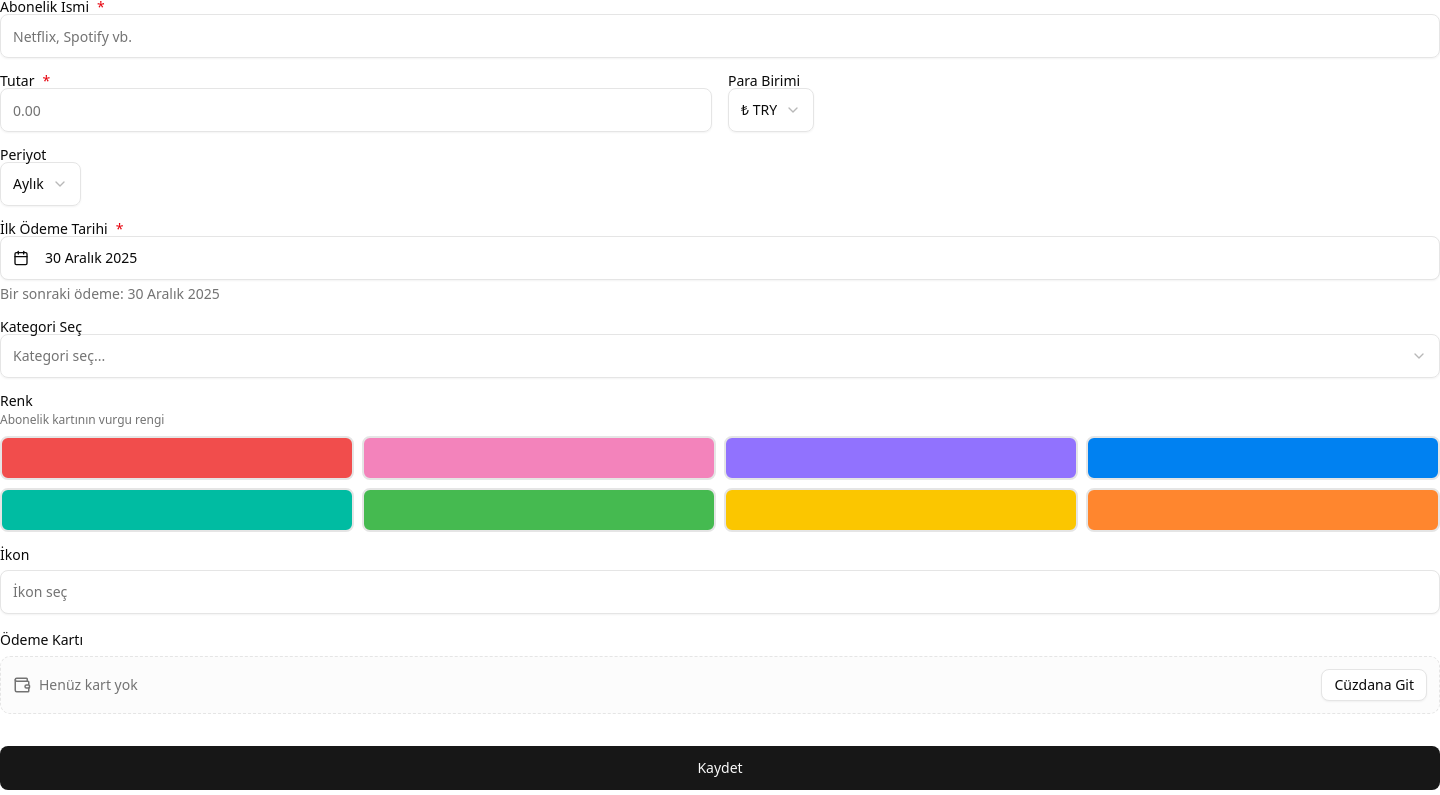
Test: SubscriptionForm › Validation › should show error for negative amount
In the number field labelled "Tutar *": [356, 110] box [0,88,712,132], type "-10"
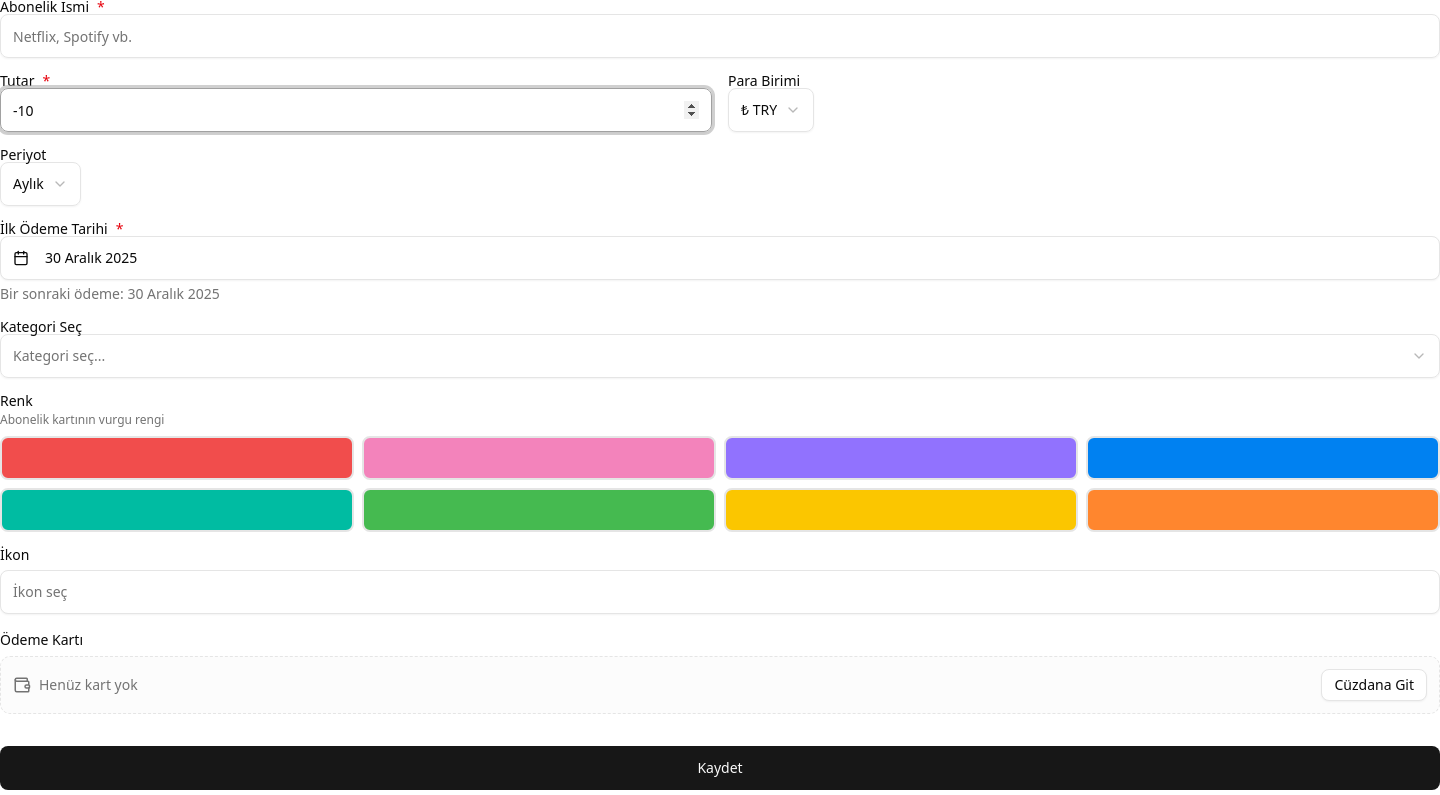
Click the button "Kaydet": [720, 768] box [0,746,1439,790]
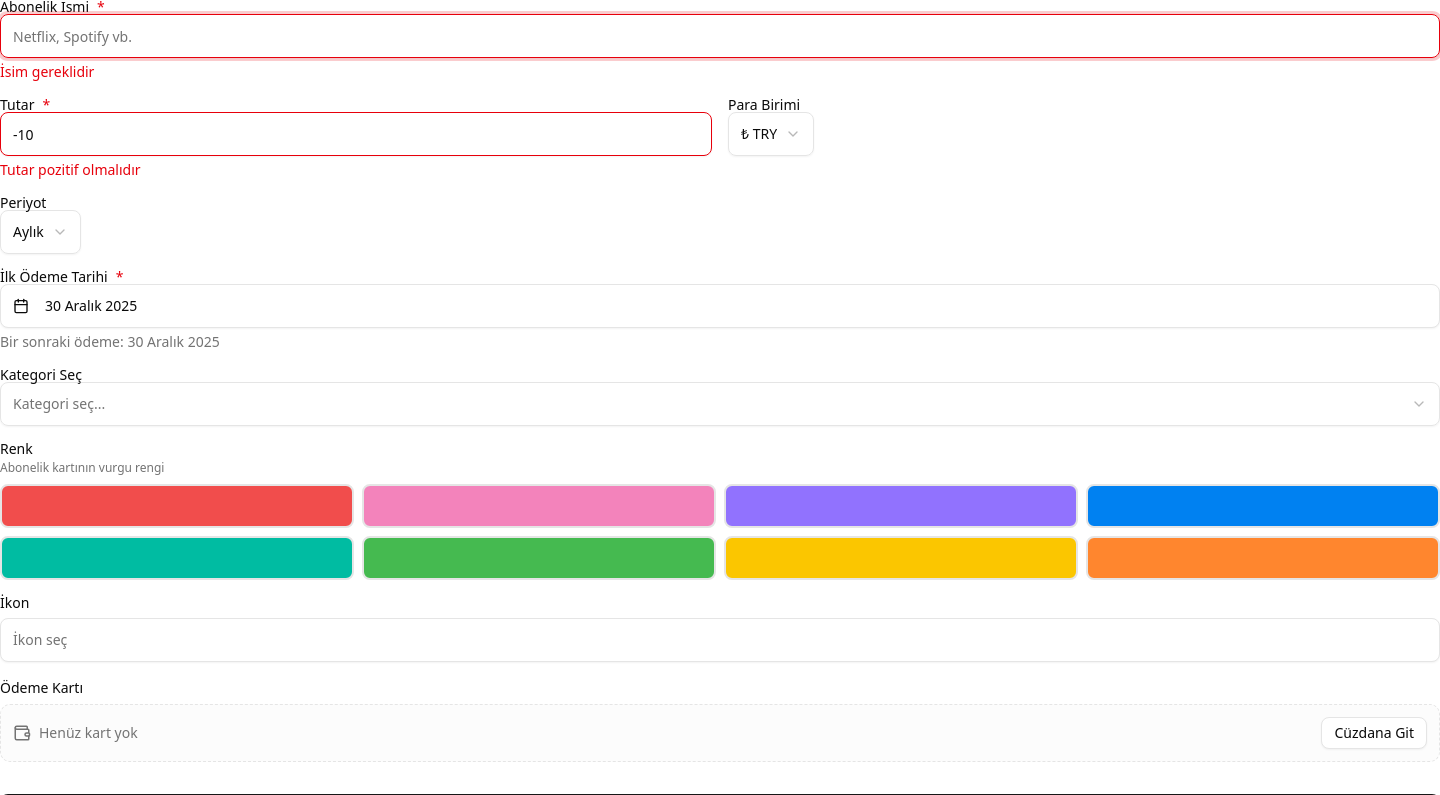
Result: the text "Tutar pozitif olmalıdır" is shown at [0,160,141,179]
